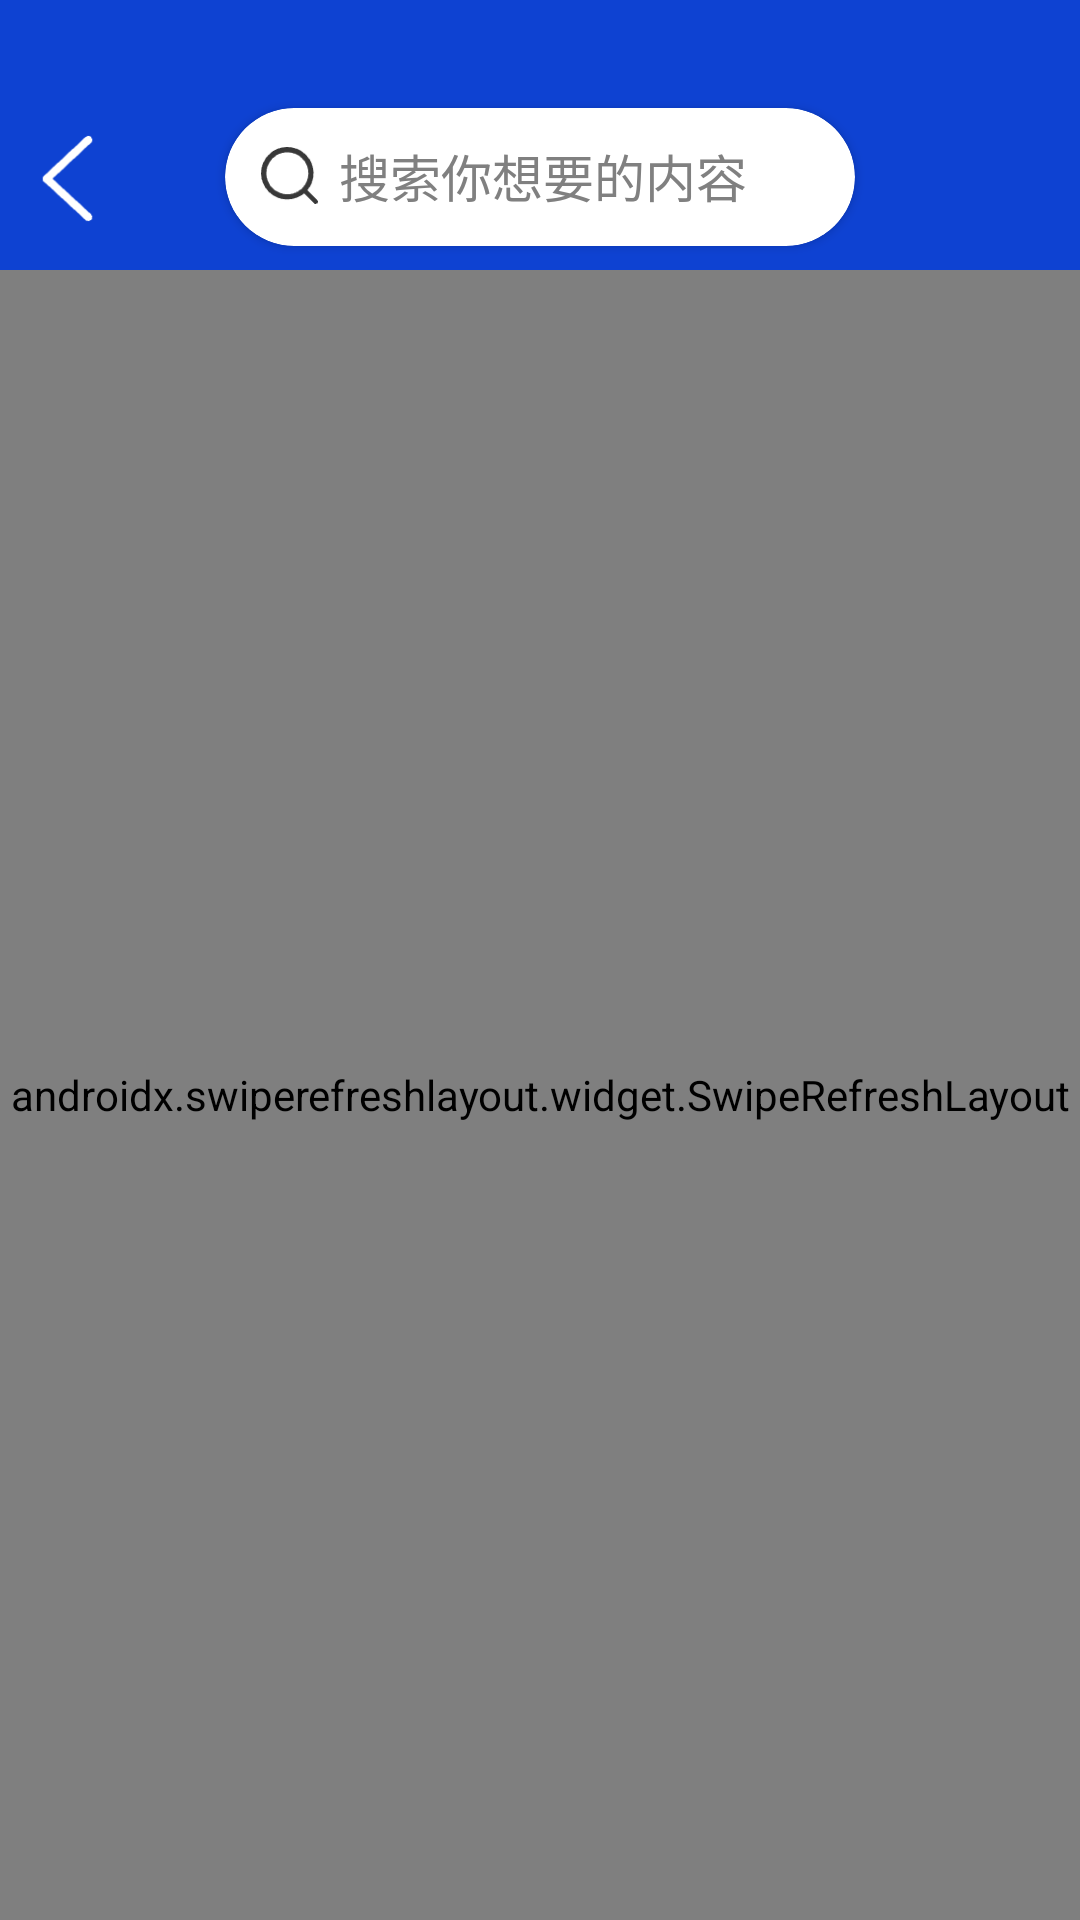

Screen size 1080 × 1920. Icon name, then its center in pixels as [x,y]:
magnifying lens: [289,175]
返回箭头: [67,178]
